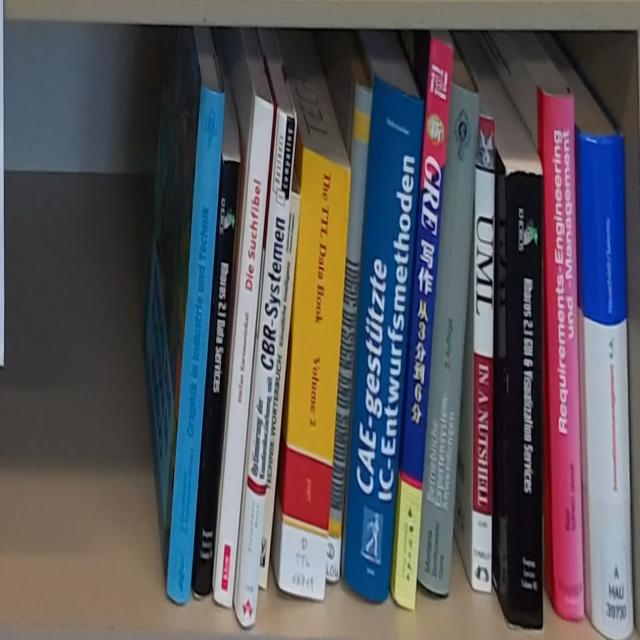Book Spine: (340, 81, 427, 607), (392, 34, 451, 617), (278, 147, 353, 601), (234, 107, 296, 630), (214, 95, 275, 607), (420, 82, 480, 596), (576, 135, 635, 640), (167, 84, 223, 611), (325, 80, 375, 585), (540, 94, 587, 615), (190, 157, 240, 597), (505, 174, 544, 632), (259, 193, 300, 593), (474, 118, 494, 600)
